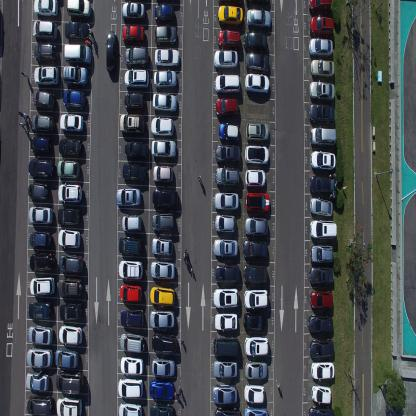car: (55, 369, 83, 394), (63, 41, 92, 65), (308, 101, 336, 124), (119, 112, 146, 135), (62, 65, 89, 88), (212, 335, 239, 358), (151, 188, 179, 210), (310, 218, 338, 240), (28, 158, 54, 181), (217, 3, 243, 26), (214, 73, 240, 96), (243, 287, 269, 310), (244, 335, 270, 358), (117, 376, 144, 398), (214, 166, 241, 188), (213, 287, 240, 309), (56, 158, 80, 182), (34, 64, 59, 87), (246, 7, 271, 30), (245, 73, 270, 96), (243, 263, 268, 286), (29, 274, 55, 296), (57, 182, 83, 204), (124, 68, 150, 90), (116, 186, 142, 208), (150, 258, 176, 280), (149, 284, 175, 306), (152, 331, 178, 353), (119, 332, 145, 354), (56, 394, 82, 416), (32, 20, 58, 42), (214, 264, 240, 286), (242, 310, 268, 332), (308, 314, 334, 336), (310, 149, 336, 171), (310, 125, 336, 147), (26, 346, 53, 367), (29, 252, 54, 274), (57, 275, 82, 297), (29, 204, 54, 226), (121, 161, 146, 183), (152, 92, 177, 114), (118, 259, 143, 281), (28, 324, 53, 346), (245, 191, 270, 213), (214, 190, 239, 212), (243, 238, 268, 260), (212, 383, 237, 405), (310, 57, 335, 79), (58, 252, 84, 273), (151, 138, 177, 159), (150, 212, 176, 233), (118, 235, 144, 256), (149, 378, 175, 399), (27, 394, 53, 415), (309, 338, 335, 359), (309, 174, 335, 195), (55, 346, 78, 369), (32, 89, 55, 112), (154, 23, 177, 46), (150, 115, 174, 137), (124, 46, 148, 68), (120, 354, 144, 376), (63, 88, 87, 110), (34, 42, 58, 64), (105, 29, 117, 73), (245, 52, 269, 74), (245, 144, 269, 166), (214, 237, 238, 259), (310, 243, 334, 265), (310, 196, 334, 218), (309, 36, 333, 58), (119, 306, 144, 327), (245, 121, 270, 142), (309, 265, 334, 286), (154, 48, 180, 68), (33, 0, 59, 20), (215, 144, 241, 164), (212, 359, 238, 379), (309, 80, 335, 100), (119, 282, 142, 304), (245, 216, 268, 238), (244, 382, 266, 405), (58, 323, 82, 344), (153, 70, 177, 91), (151, 356, 175, 377), (60, 112, 84, 133), (121, 0, 145, 21), (244, 31, 268, 52), (215, 97, 239, 118), (124, 139, 149, 159), (213, 50, 238, 70), (309, 15, 334, 35), (149, 309, 175, 328), (64, 21, 90, 40), (66, 0, 93, 18), (152, 162, 174, 184), (244, 167, 266, 189), (27, 180, 50, 201), (310, 289, 333, 310), (26, 371, 50, 391), (31, 113, 55, 133), (214, 310, 238, 330), (245, 360, 269, 380), (151, 237, 173, 258), (218, 121, 240, 142), (311, 360, 334, 380), (57, 206, 81, 225), (59, 302, 83, 321), (58, 136, 82, 155), (29, 230, 51, 250), (58, 228, 80, 248), (214, 214, 236, 234), (28, 300, 51, 319), (121, 24, 144, 43), (30, 135, 52, 154), (218, 30, 240, 49), (312, 383, 331, 405), (118, 400, 143, 416), (124, 91, 145, 110), (121, 213, 142, 232), (154, 3, 175, 22), (307, 0, 334, 14), (150, 402, 174, 416), (244, 404, 270, 415), (215, 405, 241, 415), (309, 405, 335, 415)
